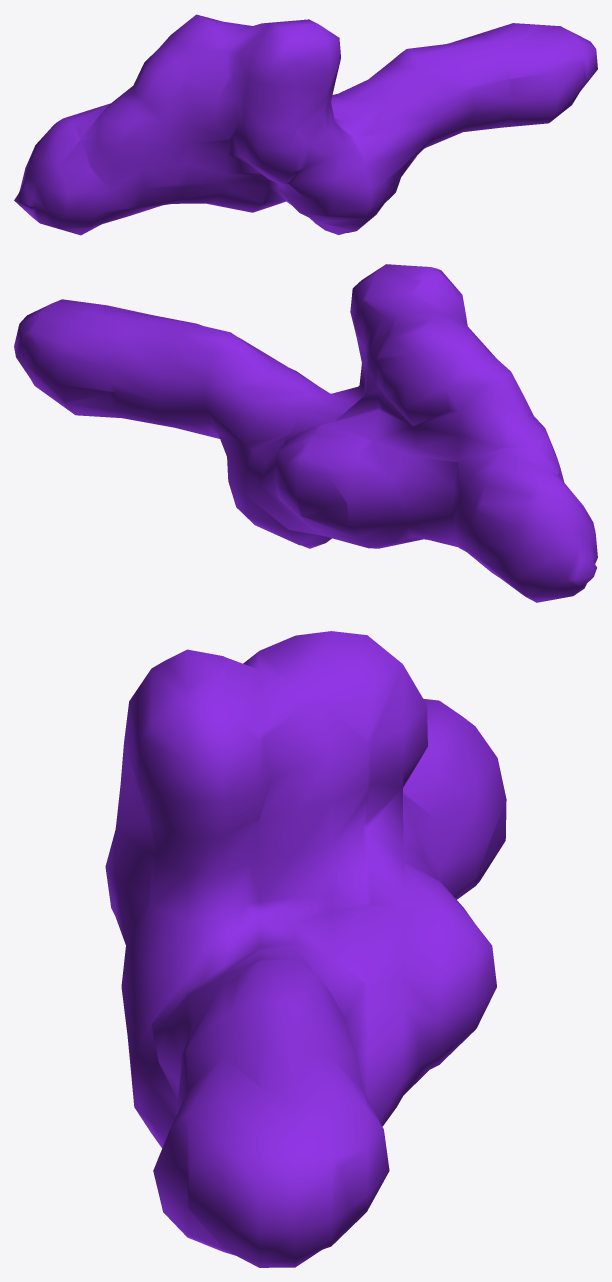
Rendered from Vesicle_88AAligned11.fbx.
3 views of the same model, one above another, from view 1: azimuth 30°, elevation 25°; view 2: azimuth 150°, elevation 25°; view 3: azimuth 270°, elevation 25° (orthographic). The views are drawn at different scales.
Parts seen in each view (by area): view 1: vesicle_MeshVes88Mesh; view 2: vesicle_MeshVes88Mesh; view 3: vesicle_MeshVes88Mesh.
Boxes of the visible parts, box(x1,y1,x2,y2) form: vesicle_MeshVes88Mesh: box(14, 14, 597, 235); vesicle_MeshVes88Mesh: box(14, 264, 597, 602); vesicle_MeshVes88Mesh: box(105, 631, 506, 1267).
Size of the model in its own units: 117 by 50.23 by 37.88.
